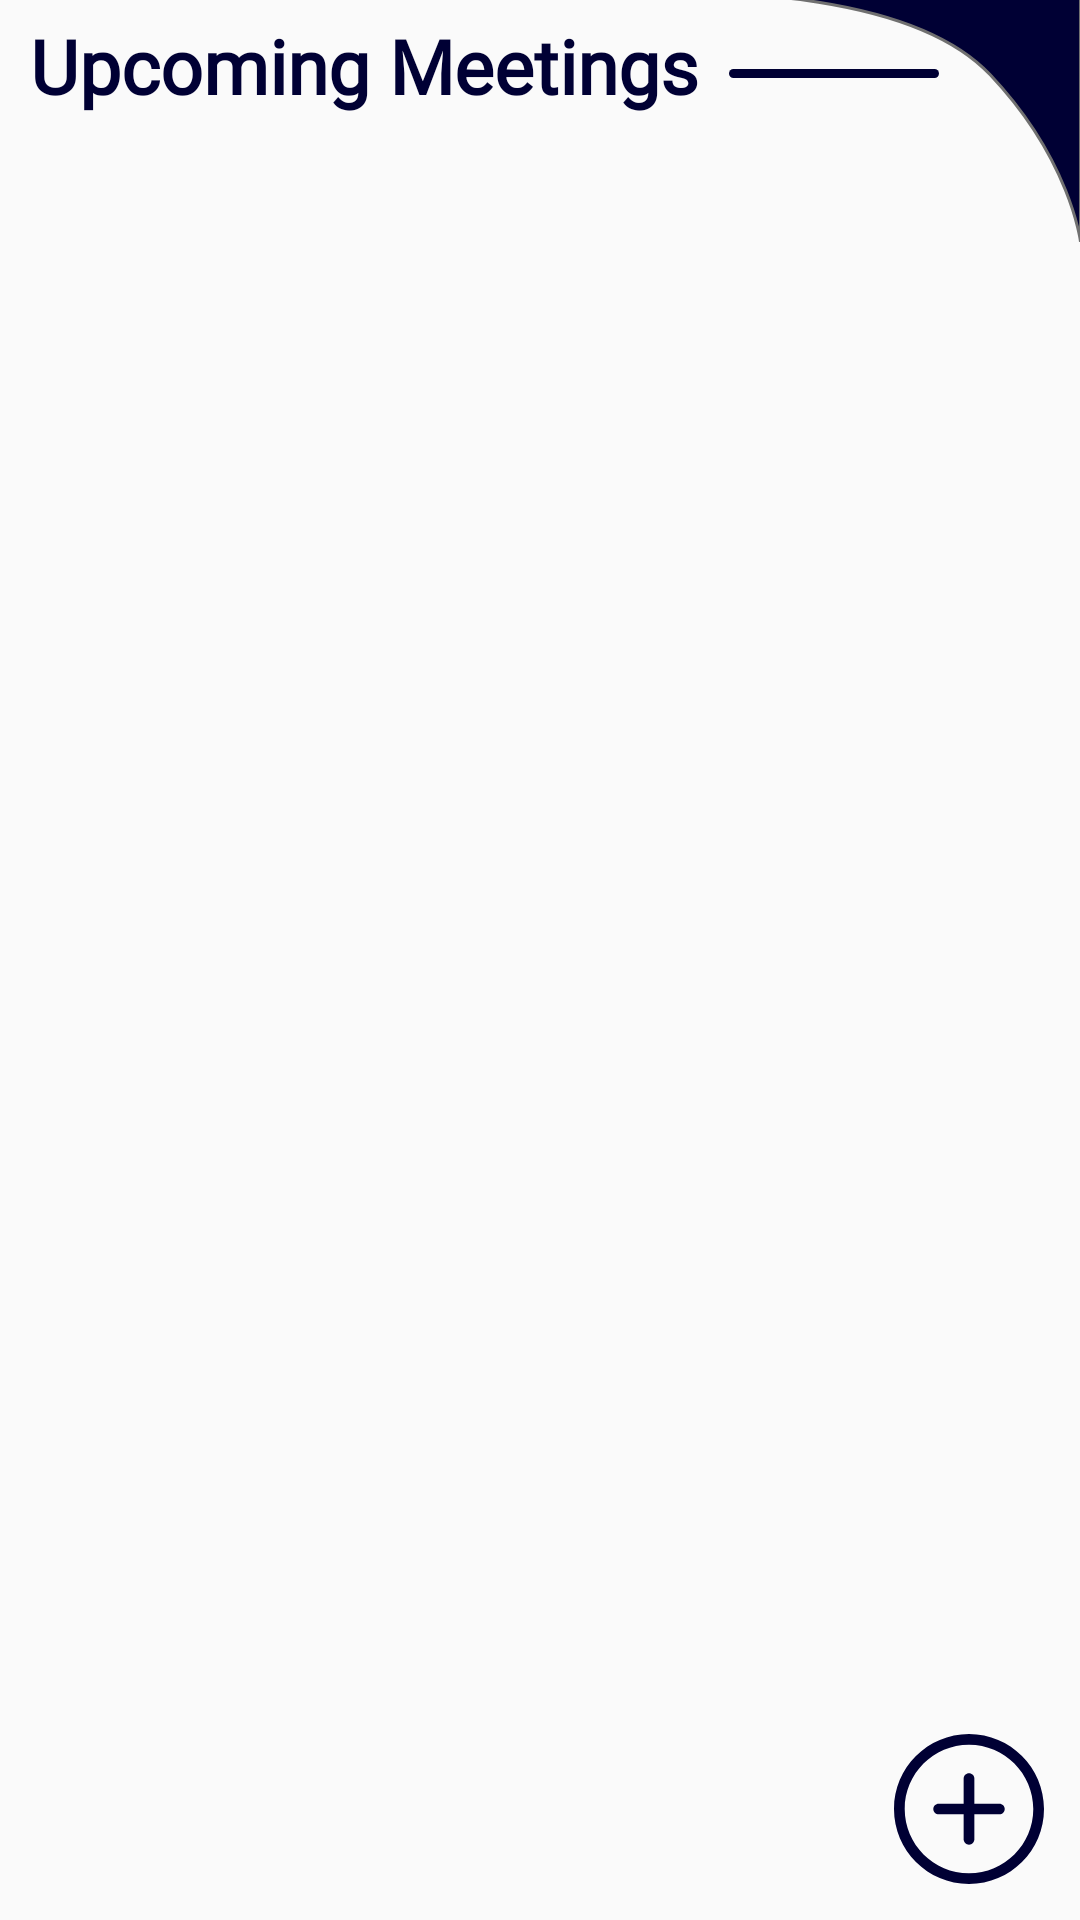

Screen size 1080px x 1920px. Icon name, then its center in pixels as [x,y]:
event plus: [969,1809]
